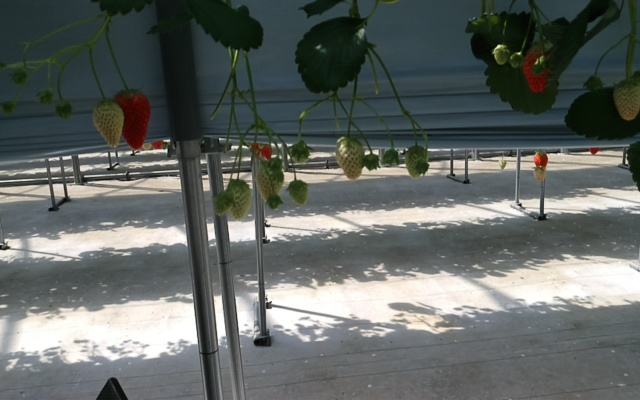GreenStrawberry: (92, 100, 125, 151), (254, 160, 286, 205), (335, 135, 365, 182), (611, 77, 640, 121), (226, 178, 253, 223), (405, 144, 429, 179), (213, 190, 234, 218), (287, 180, 309, 206), (492, 44, 510, 68)
MatureStrawberry: (114, 89, 153, 152), (523, 45, 558, 95)
